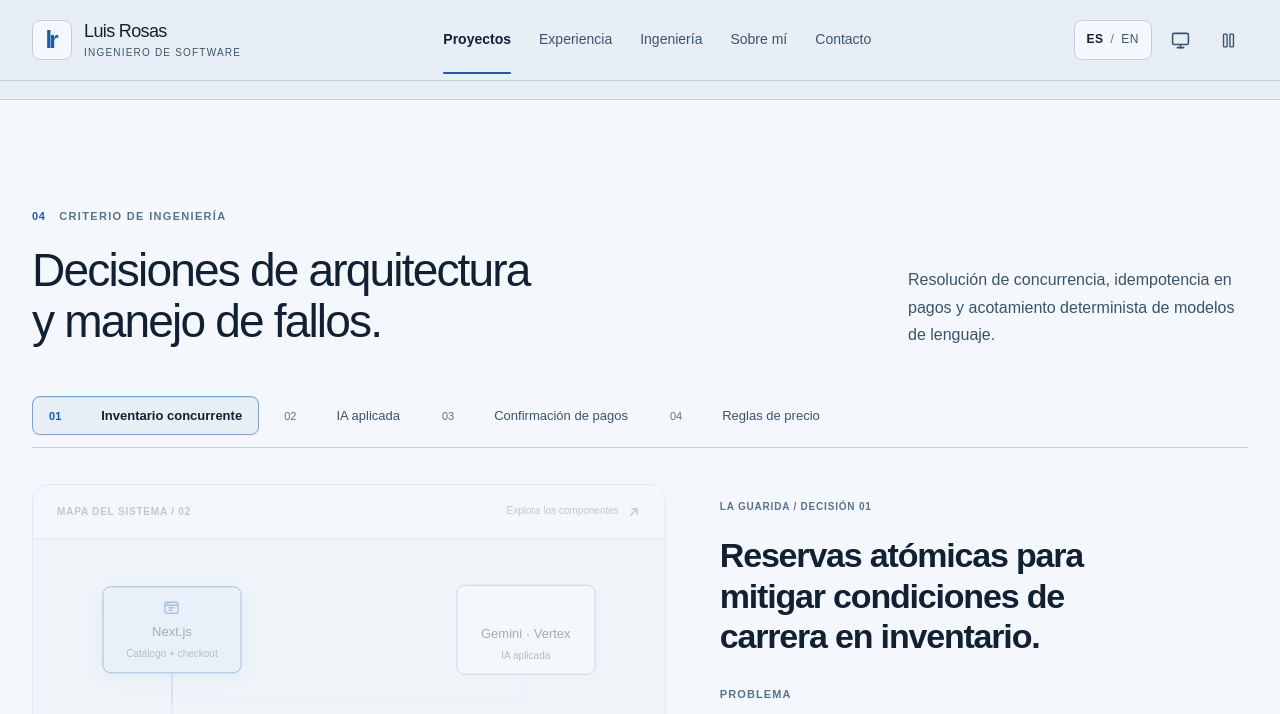
Test: Portfolio journeys › exposes Experience in navigation and four La Guarida decisions
(page scrolled)
expect the navigation bar named "Navegación principal" shows "Experiencia": met, box [539,20,612,60]
Click the tab "02 IA aplicada" at (342, 416), box [267,396,417,435]
(page scrolled)
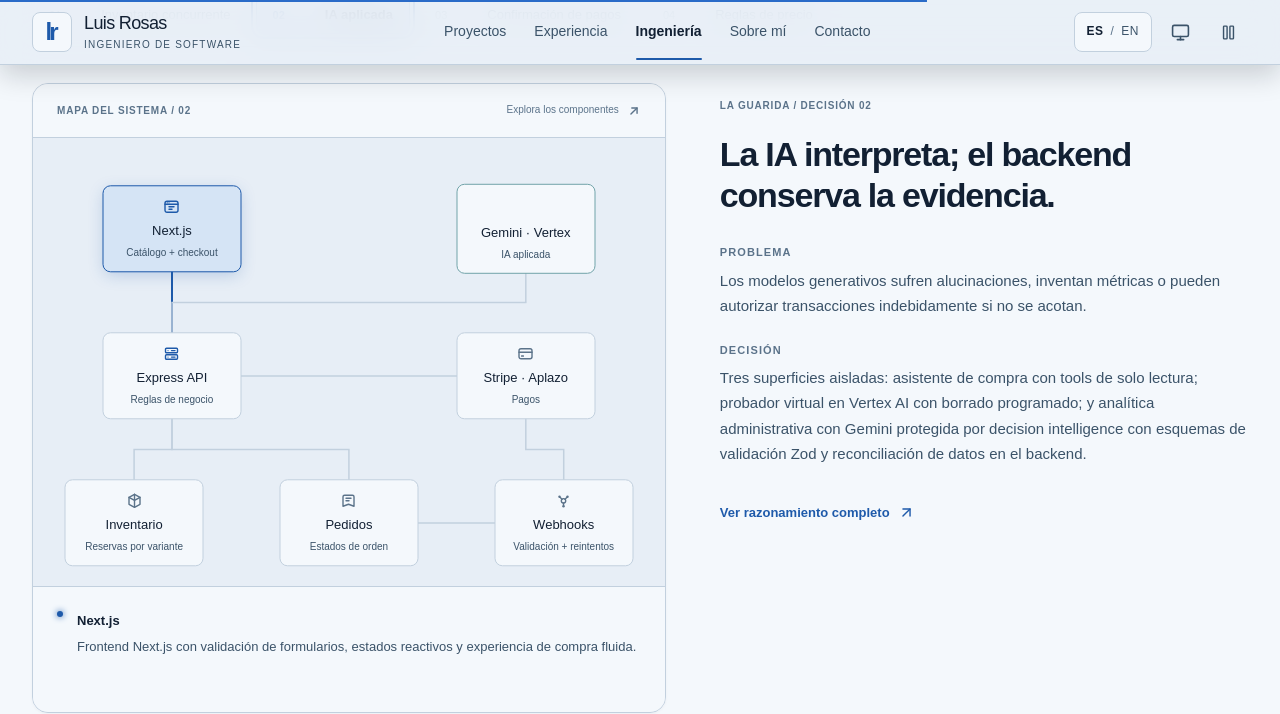
expect the heading "La IA interpreta; el backend conserva la evidencia." is shown: met, box [720,135,1131,214]
expect the text "decision intelligence" is shown: met, box [720,369,1246,462]
